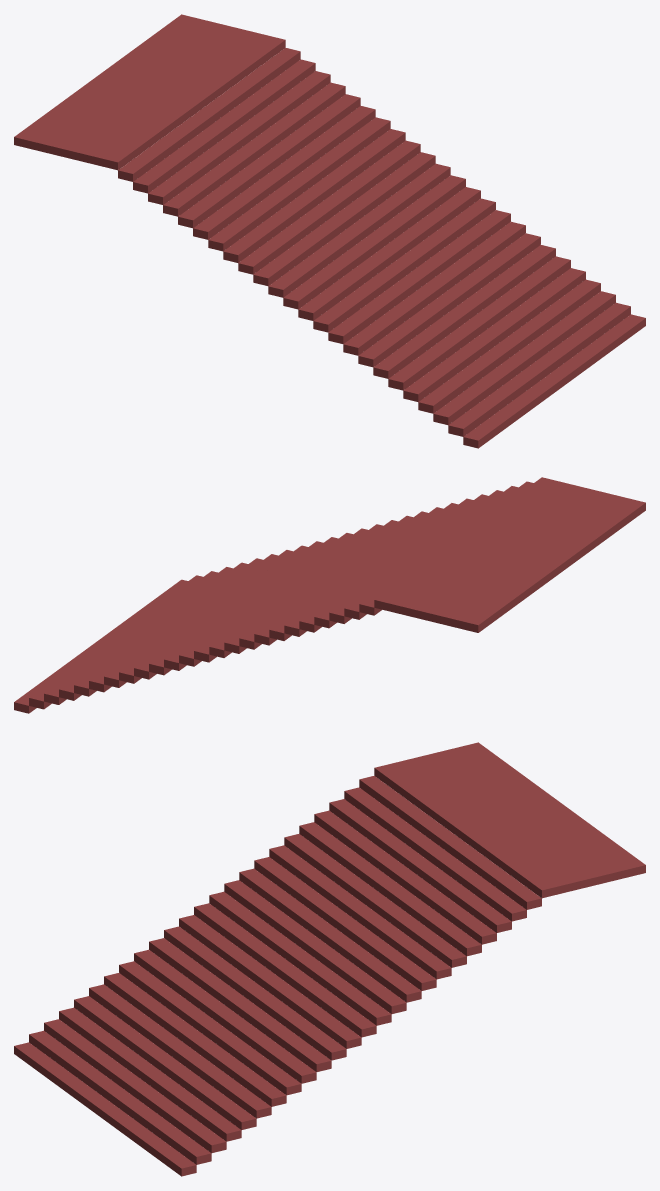
Rendered from StairsTo2_1.fbx.
3 renders of one model, top to bottom at view 1: azimuth 30°, elevation 25°; view 2: azimuth 210°, elevation 25°; view 3: azimuth 270°, elevation 25°, orthographic.
Visible parts, largest first — view 1: Stairs_mat Mesh (1); view 2: Stairs_mat Mesh (1); view 3: Stairs_mat Mesh (1).
Part boxes in pixels (x1,y1,x2,y2): Stairs_mat Mesh (1): [14, 14, 645, 448]; Stairs_mat Mesh (1): [14, 477, 645, 713]; Stairs_mat Mesh (1): [14, 742, 645, 1176].
Size of the model in its own units: 5 by 1.96 by 5.66.
